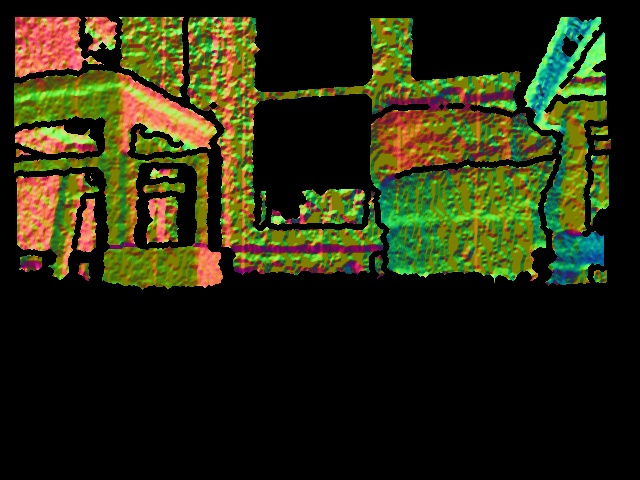station: (101, 147, 229, 293)
